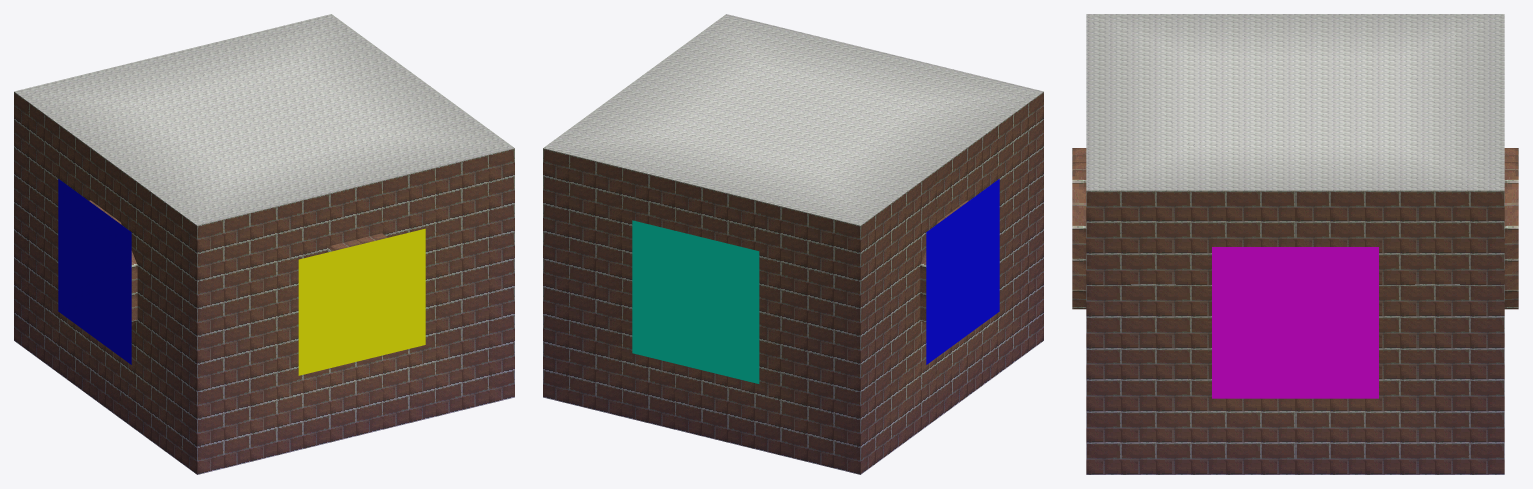
The model's file is suisou_all.glb.
The picture shows the model from 3 angles, left to right: view 1: azimuth 30°, elevation 25°; view 2: azimuth 150°, elevation 25°; view 3: azimuth 270°, elevation 25°; orthographic projection. The views are drawn at different scales.
Visible parts, largest first — view 1: suisou_all; view 2: suisou_all; view 3: suisou_all.
Part boxes in pixels (bbox=[...]): suisou_all: bbox=[14, 14, 514, 474]; suisou_all: bbox=[543, 14, 1043, 474]; suisou_all: bbox=[1072, 14, 1518, 474].
Bounding box in the file's own units: 6.4 × 4.5 × 6.4.
4 materials, 3 textured.
